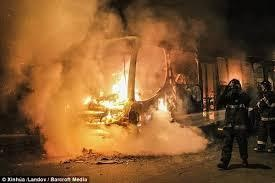fire: (82, 65, 142, 122), (156, 96, 169, 112)
